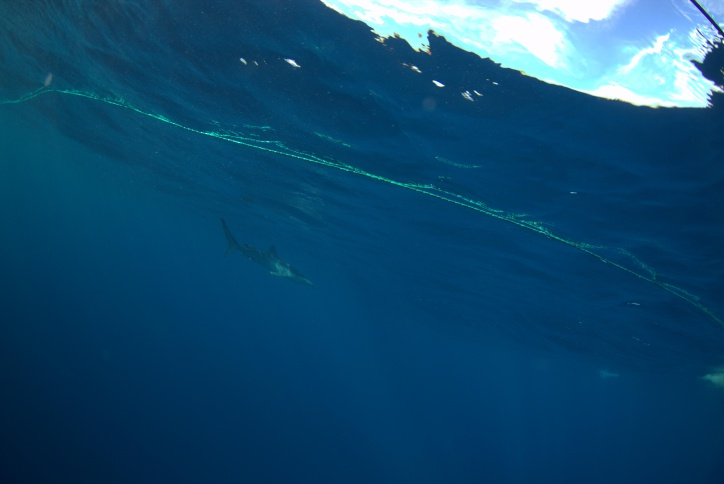Azul: (348, 253, 665, 421)
